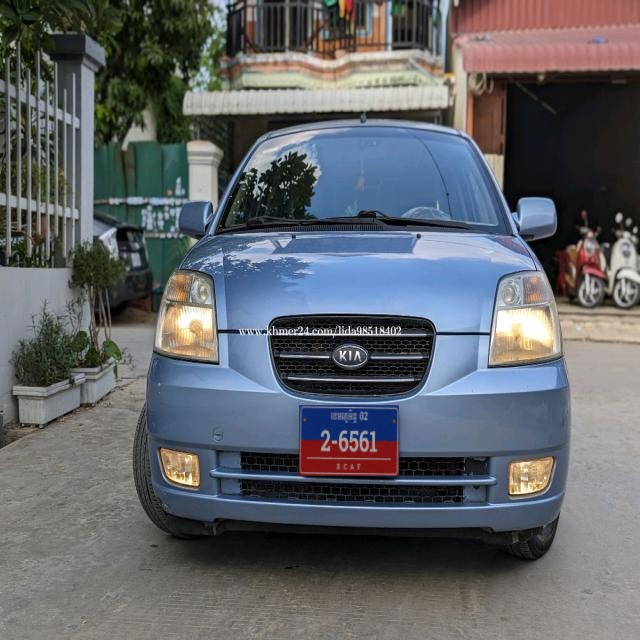Plate Number: (300, 406, 399, 476)
